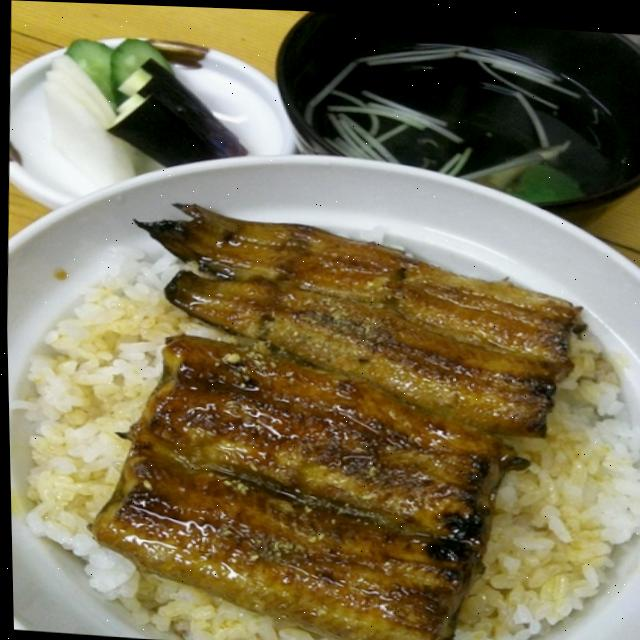熟制海鲜: (7, 158, 640, 640)
